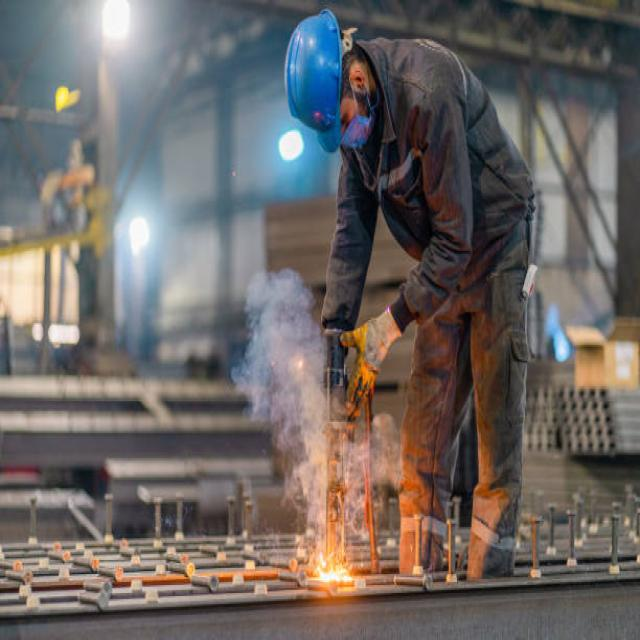Gloves: (338, 288, 421, 427)
helmet: (283, 0, 346, 156)
person: (282, 3, 544, 580)
